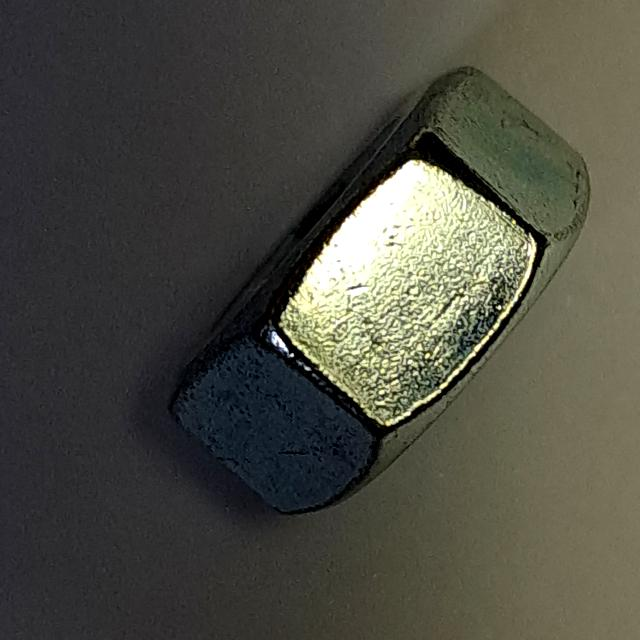Side_Excellent: (153, 47, 600, 527)
